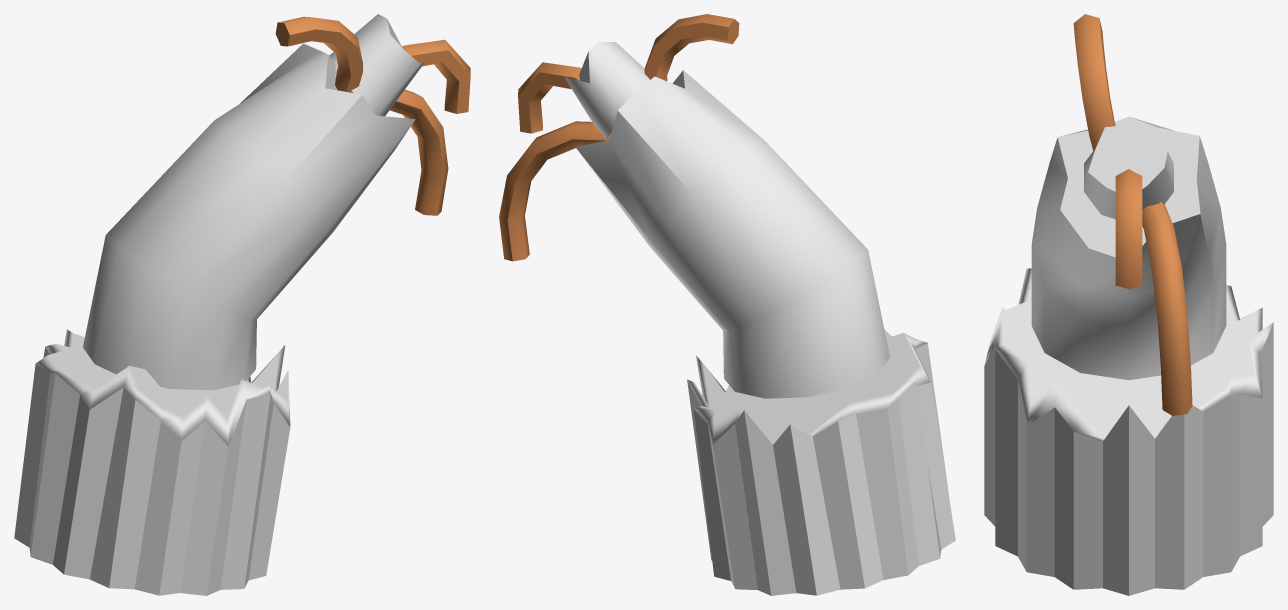
File: Communicator_AntennaBroken.fbx
3 renders of one model, left to right at view 1: azimuth 30°, elevation 25°; view 2: azimuth 150°, elevation 25°; view 3: azimuth 270°, elevation 25°, orthographic. The views are drawn at different scales.
Visible parts, largest first — view 1: Comm_AntBroken_Stub, Comm_AntBroken_Collar, Comm_AntBroken_Braid, Comm_AntBroken_Wire3, Comm_AntBroken_Wire1, Comm_AntBroken_Wire2; view 2: Comm_AntBroken_Stub, Comm_AntBroken_Collar, Comm_AntBroken_Wire3, Comm_AntBroken_Braid, Comm_AntBroken_Wire1, Comm_AntBroken_Wire2; view 3: Comm_AntBroken_Collar, Comm_AntBroken_Stub, Comm_AntBroken_Wire3, Comm_AntBroken_Braid, Comm_AntBroken_Wire1, Comm_AntBroken_Wire2.
Part boxes in pixels (<box>): Comm_AntBroken_Stub: <box>83,43,415,390</box>; Comm_AntBroken_Collar: <box>14,329,290,595</box>; Comm_AntBroken_Braid: <box>329,14,424,116</box>; Comm_AntBroken_Wire3: <box>390,89,448,215</box>; Comm_AntBroken_Wire1: <box>275,16,362,92</box>; Comm_AntBroken_Wire2: <box>402,39,470,113</box>; Comm_AntBroken_Stub: <box>575,70,889,398</box>; Comm_AntBroken_Collar: <box>687,329,955,595</box>; Comm_AntBroken_Wire3: <box>499,121,610,261</box>; Comm_AntBroken_Braid: <box>564,42,649,138</box>; Comm_AntBroken_Wire1: <box>644,14,739,81</box>; Comm_AntBroken_Wire2: <box>518,62,581,133</box>; Comm_AntBroken_Collar: <box>984,268,1273,595</box>; Comm_AntBroken_Stub: <box>1031,116,1226,380</box>; Comm_AntBroken_Wire3: <box>1142,202,1192,415</box>; Comm_AntBroken_Braid: <box>1084,125,1173,219</box>; Comm_AntBroken_Wire1: <box>1073,14,1115,150</box>; Comm_AntBroken_Wire2: <box>1115,169,1142,288</box>.
Size of the model in its own units: 0.0203 by 0.0233 by 0.0104.
